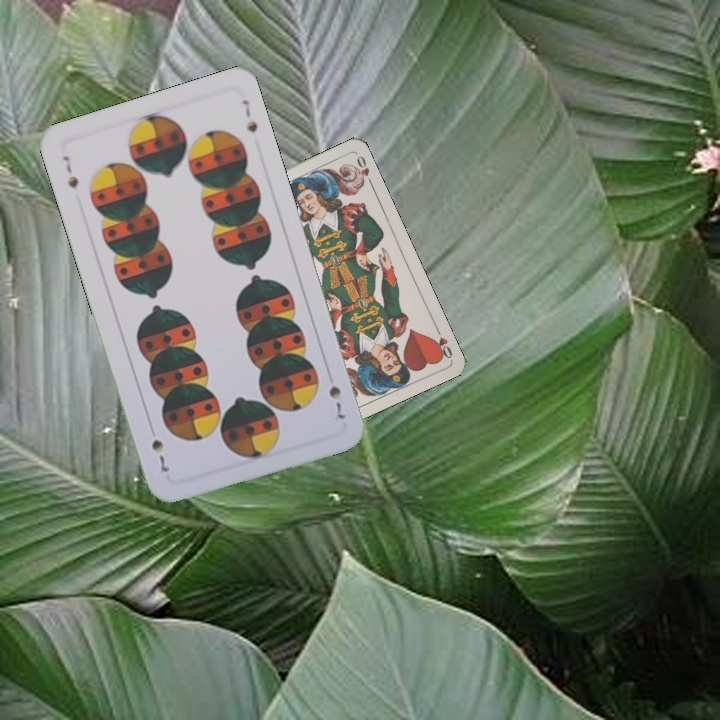HO: (430, 323, 455, 361)
S7: (325, 381, 348, 425), (58, 151, 81, 191)
